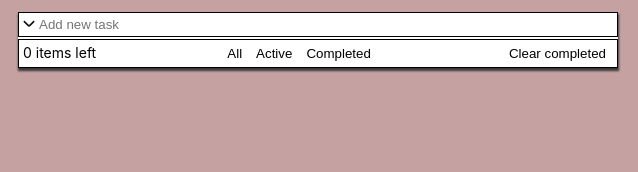
Scenario: TasksField component › renders tasks passed as props
Type "Test Task 1" into the field with placeholder "Add new task" at {"x": 328, "y": 24}, box [39,13,617,36]
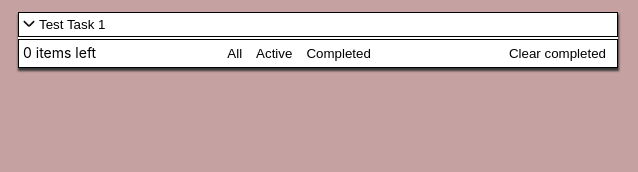
Press Enter in the field with placeholder "Add new task", box [39,13,617,36]
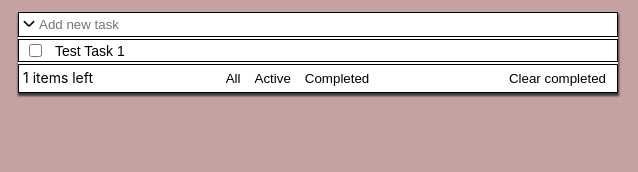
Type "Test Task 2" into the field with placeholder "Add new task" at {"x": 328, "y": 24}, box [39,13,617,36]
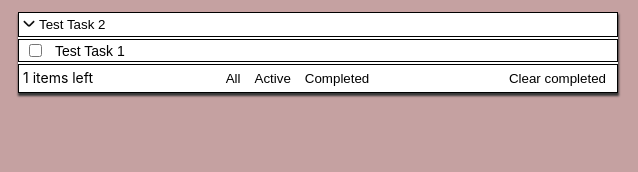
Press Enter in the field with placeholder "Add new task", box [39,13,617,36]
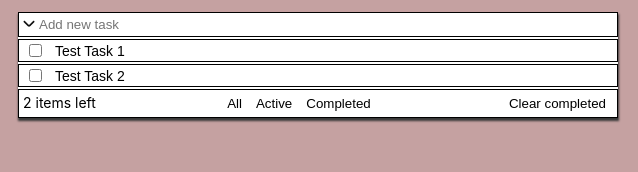
Expected: the text "Test Task 1" is shown, [55,42,125,58]
Expected: the text "Test Task 2" is shown, [55,68,125,84]
